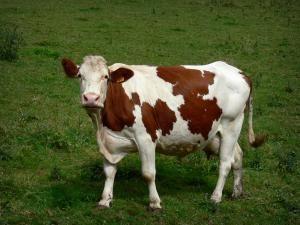cow: (52, 35, 262, 201)
